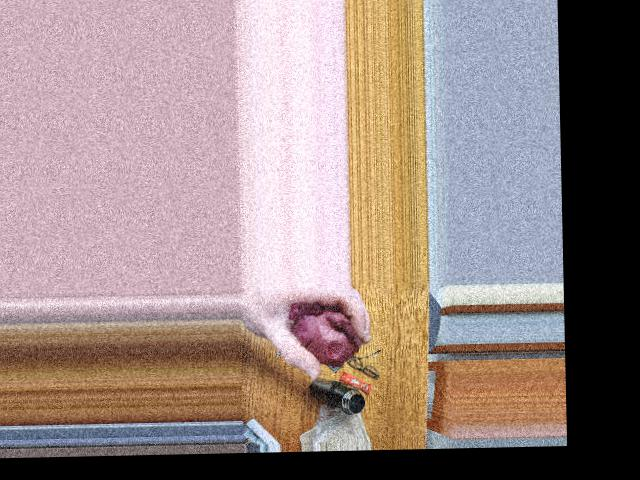onion: (304, 313, 359, 357)
